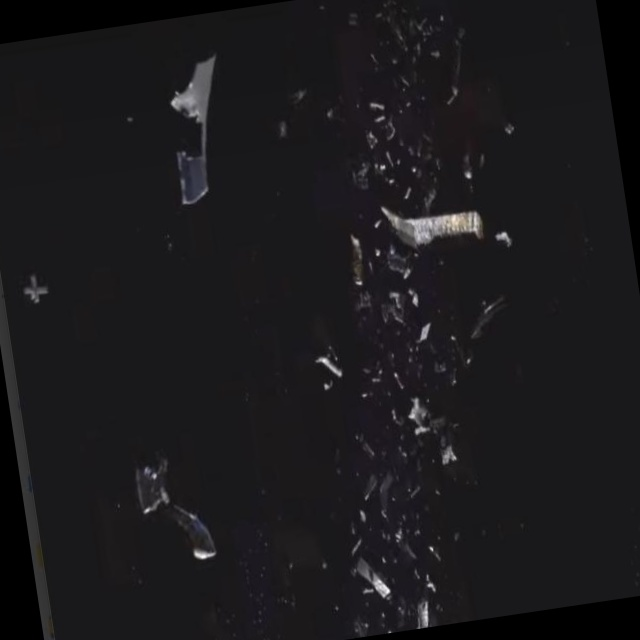large_debris: (153, 41, 247, 229), (123, 433, 229, 590), (371, 179, 494, 269), (349, 544, 400, 609), (308, 332, 353, 404), (337, 227, 376, 296), (432, 431, 467, 478)
